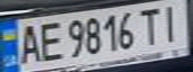1: (100, 11, 121, 53)
6: (115, 8, 139, 50)
8: (81, 14, 103, 56)
9: (63, 16, 84, 60)
A: (12, 20, 45, 65)
E: (33, 18, 63, 63)
I: (157, 1, 187, 43)
T: (136, 4, 163, 46)
